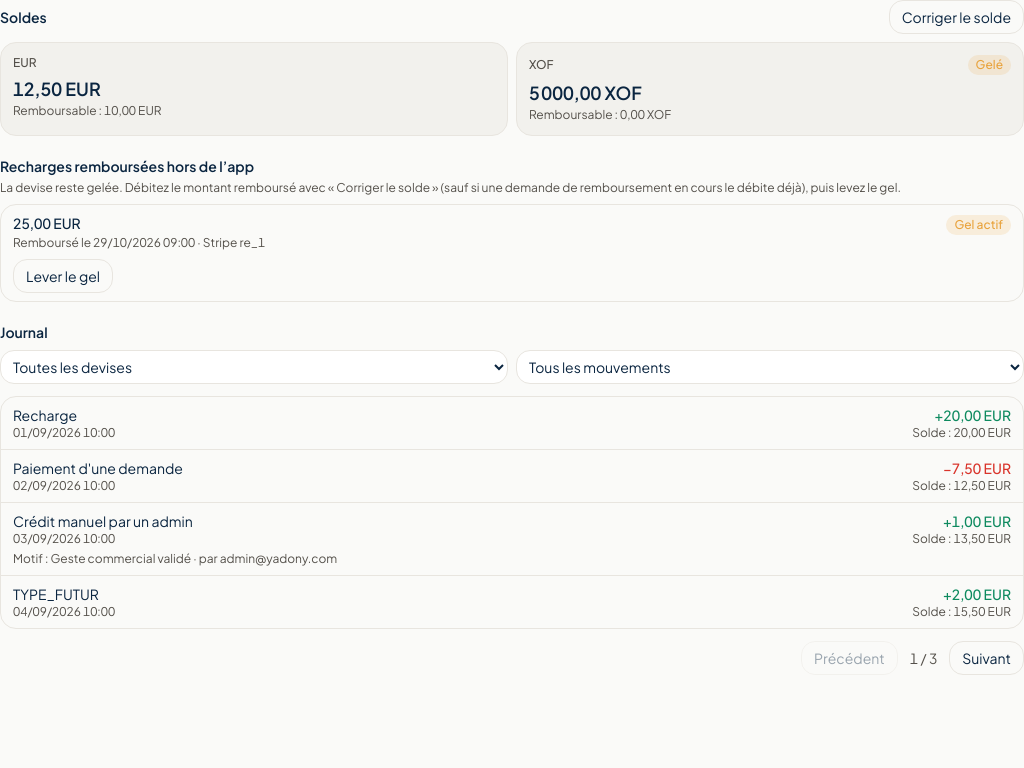
Test case: UserWalletTab › gels après une recharge remboursée hors de l’app › lever le gel : note obligatoire, appel puis relecture des soldes et des gels
Click the button with test id "wallet-hold-release-h1": (63, 276) [13,259,113,293]
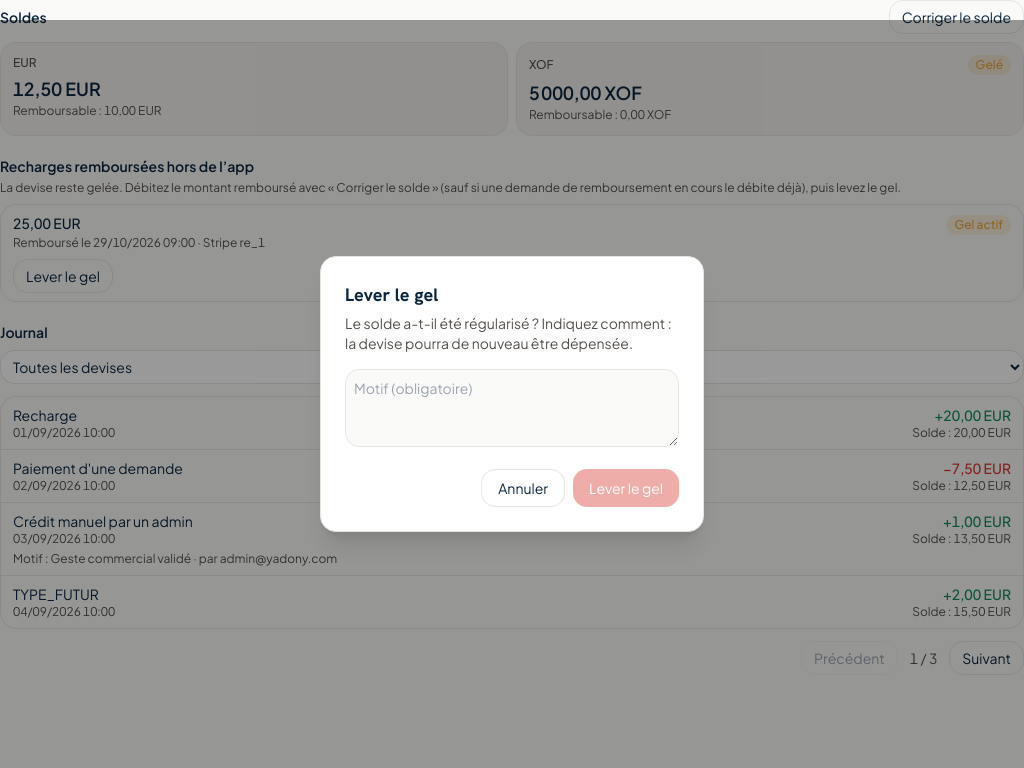
Check: the button with test id "confirm" is disabled, box [573,469,679,507]
In the text box with test id "reason": (512, 408) [345,369,679,447], type "Solde débité de 25 €"
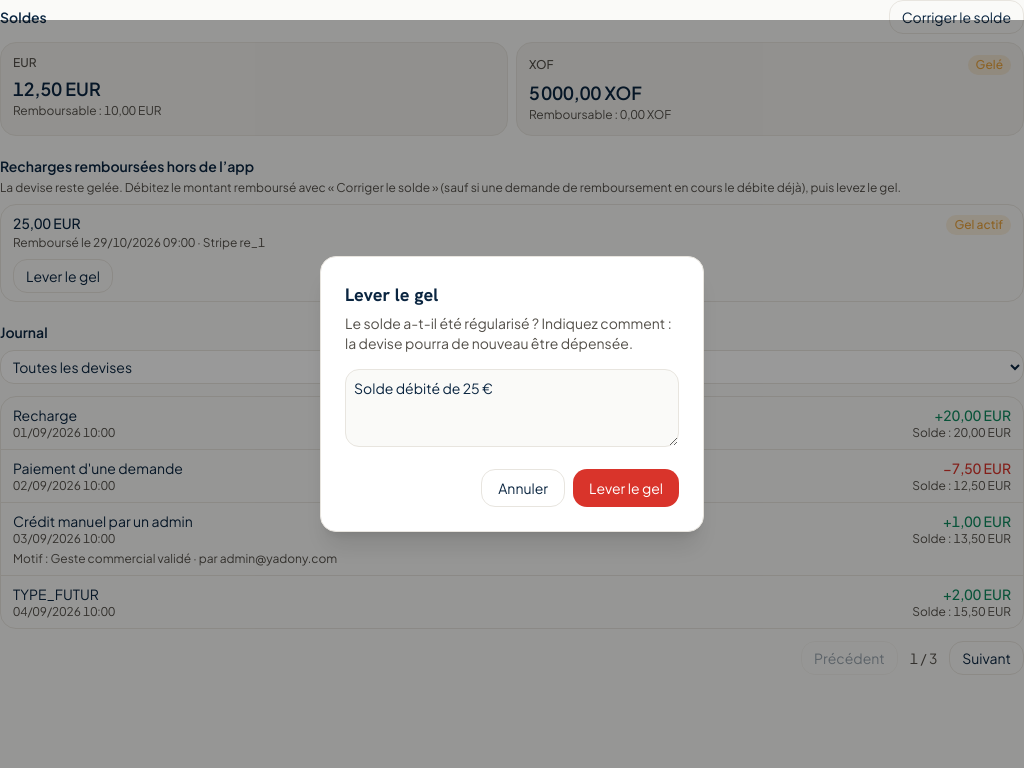
Click the button with test id "confirm": (626, 488) [573,469,679,507]
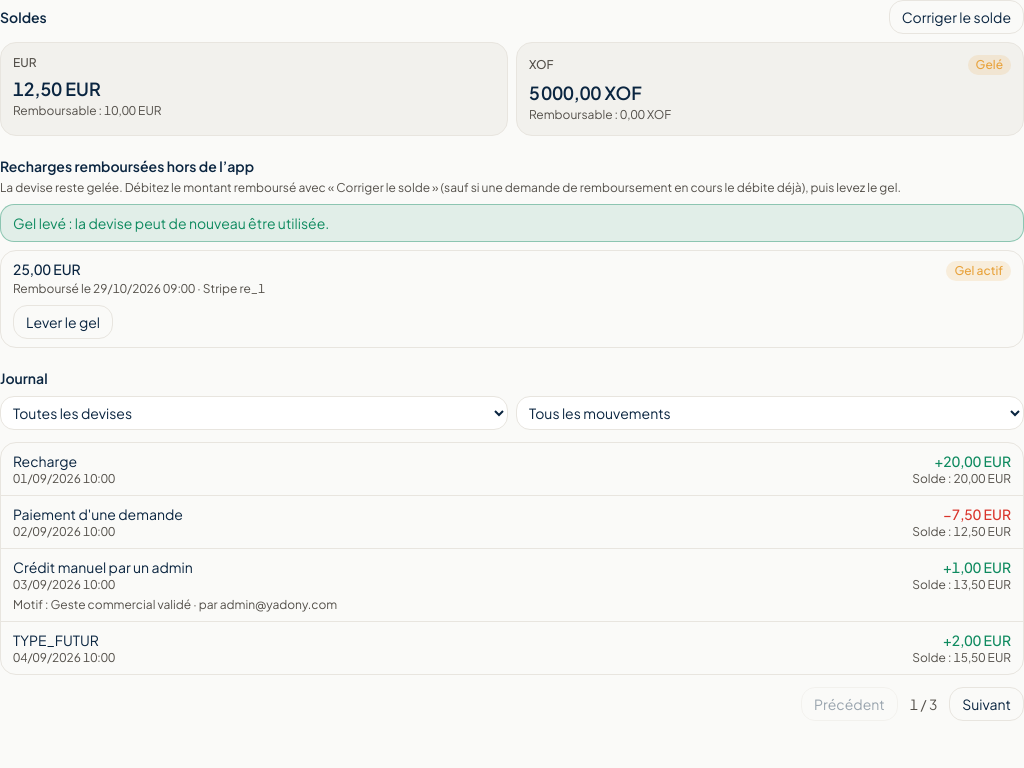
Check: the message with test id "wallet-holds-success" shows "Gel levé", box [13,214,329,232]
